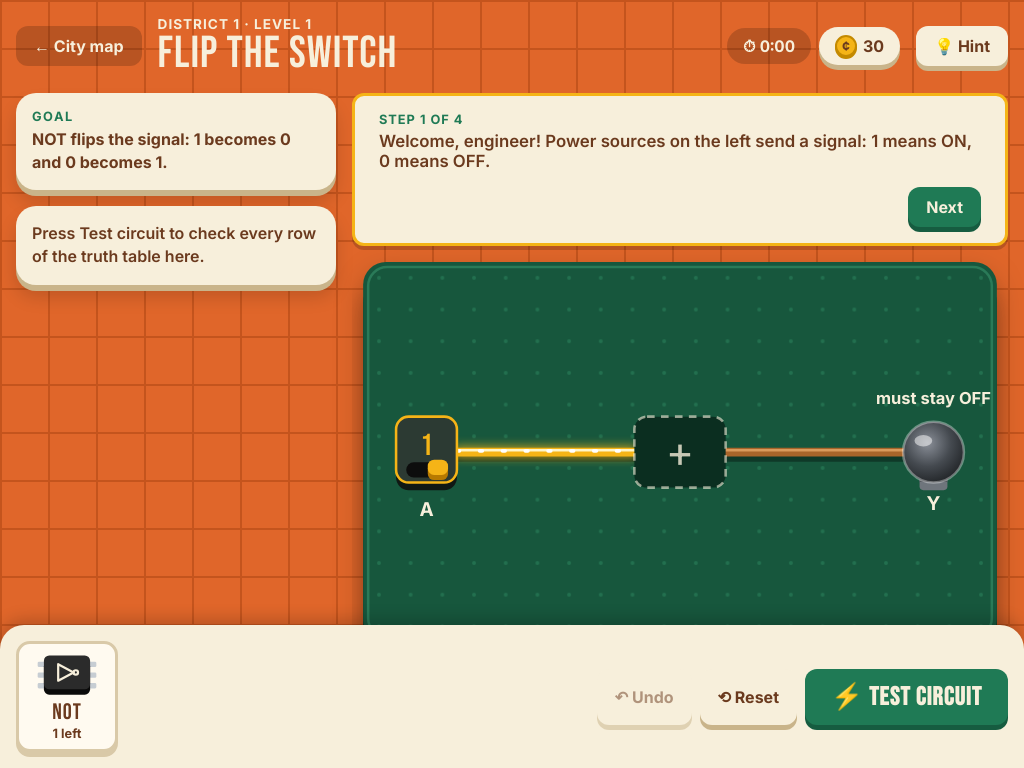
Scenario: LevelPage › uses the game's own answer when the AI is unavailable
The width and height of the screenshot is (1024, 768).
What coordinates should you click on to do the following:
click the button "💡 Hint"
I would click on:
 (962, 46)
Its box is [916,26,1008,66].
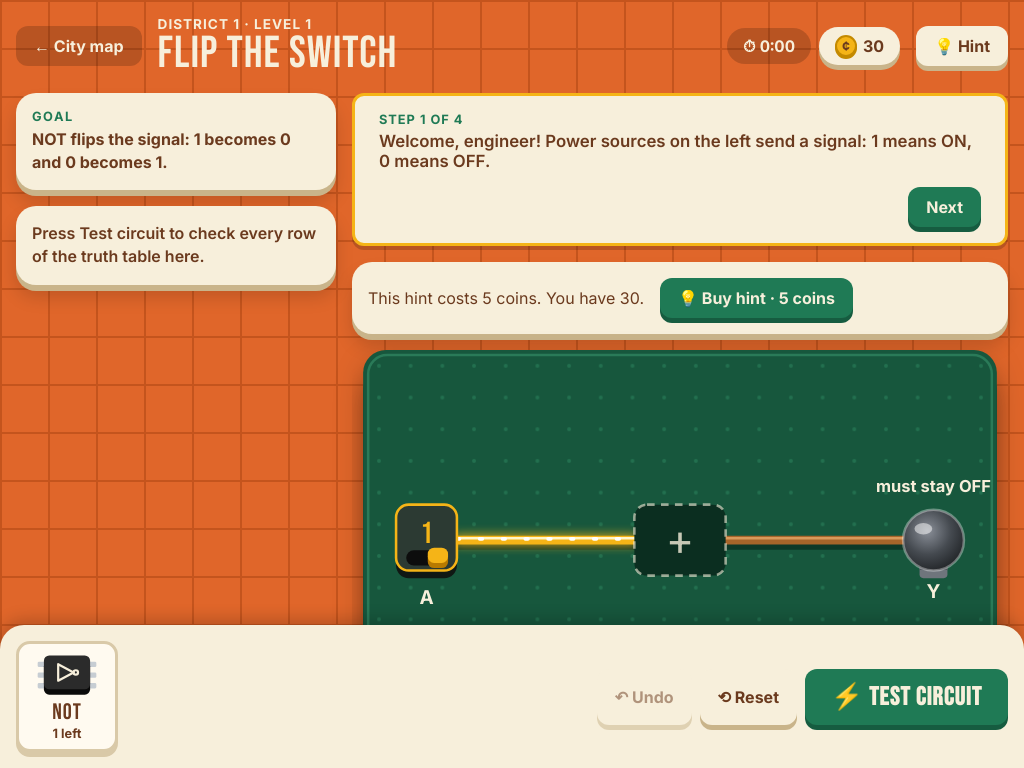
What coordinates should you click on to do the following:
click the button "💡 Buy hint · 5 coins"
I would click on:
 (756, 298)
Its box is [660,278,853,318].
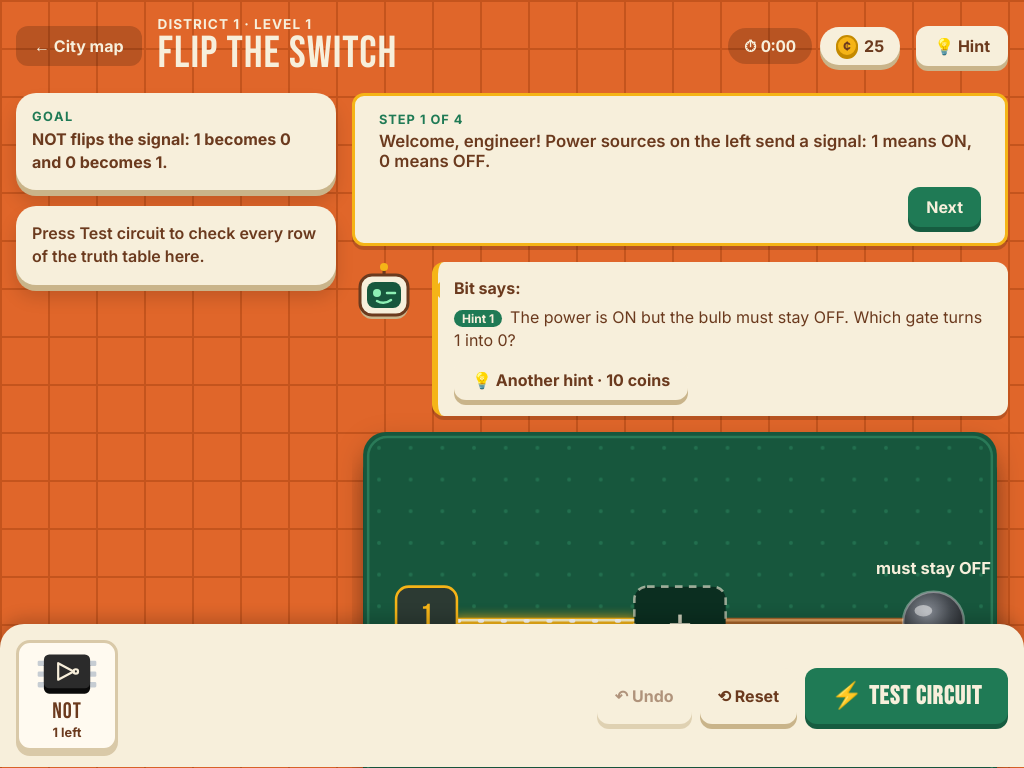
What coordinates should you click on to do the following:
click the button "💡 Another hint · 10 coins"
I would click on:
 (571, 380)
Its box is [454,360,688,400].
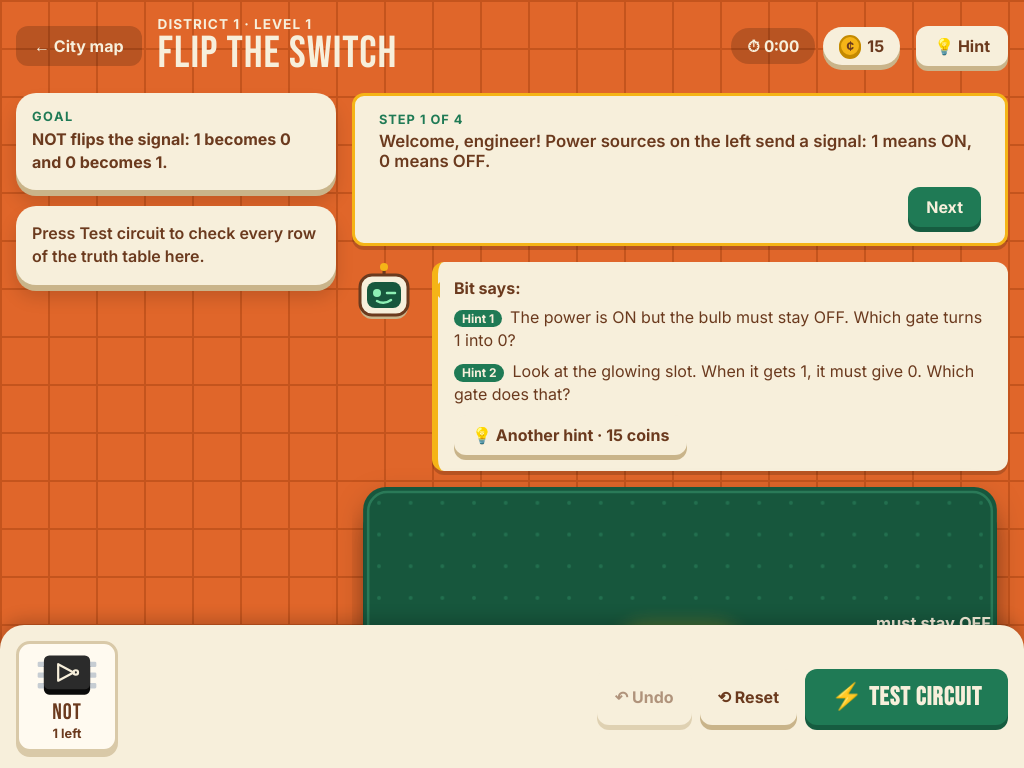
What coordinates should you click on to do the following:
click the button "💡 Another hint · 15 coins"
I would click on:
 (571, 434)
Its box is [454,414,687,454].
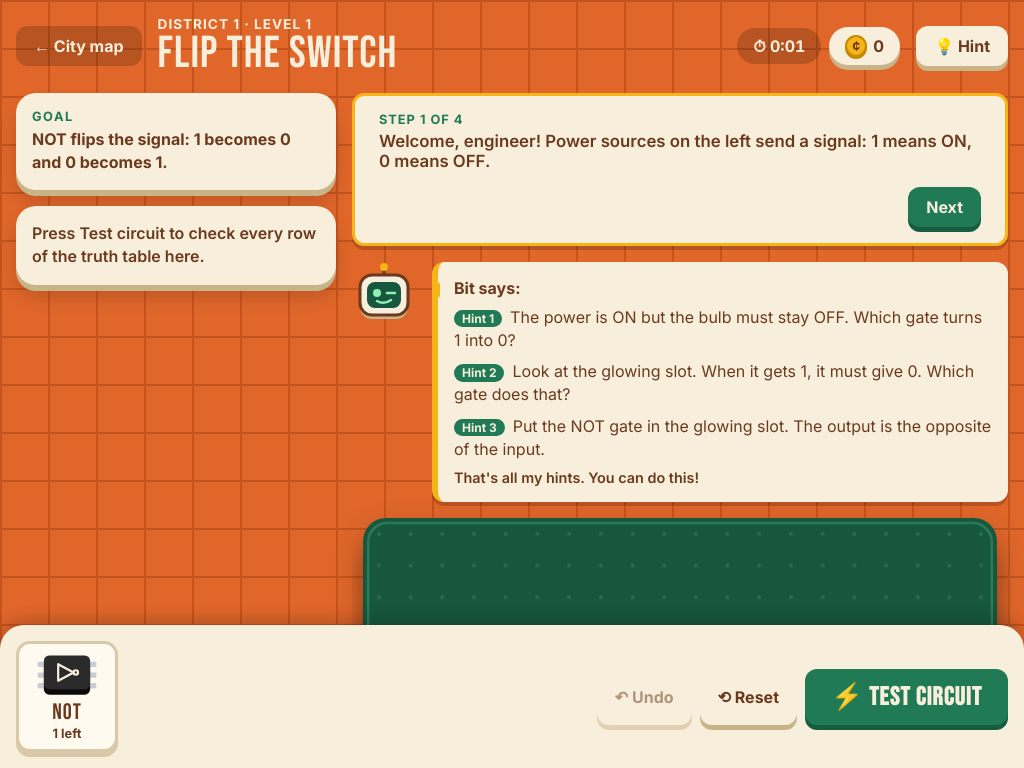
Check: the list item "Put the NOT gate in the glowing slot" is shown, box [454,416,991,459]
